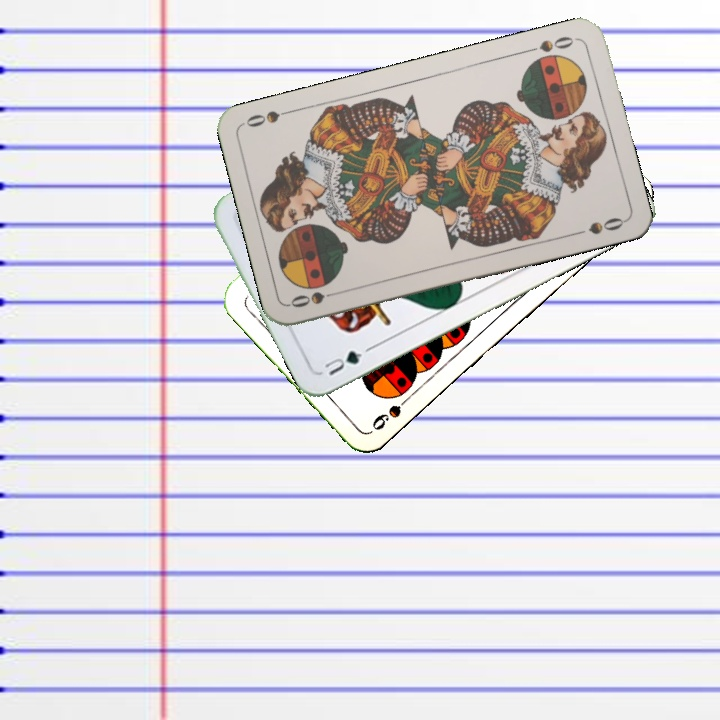GU: (320, 343, 373, 379)
S9: (367, 389, 416, 433)
SO: (286, 286, 345, 310), (521, 32, 580, 56)
